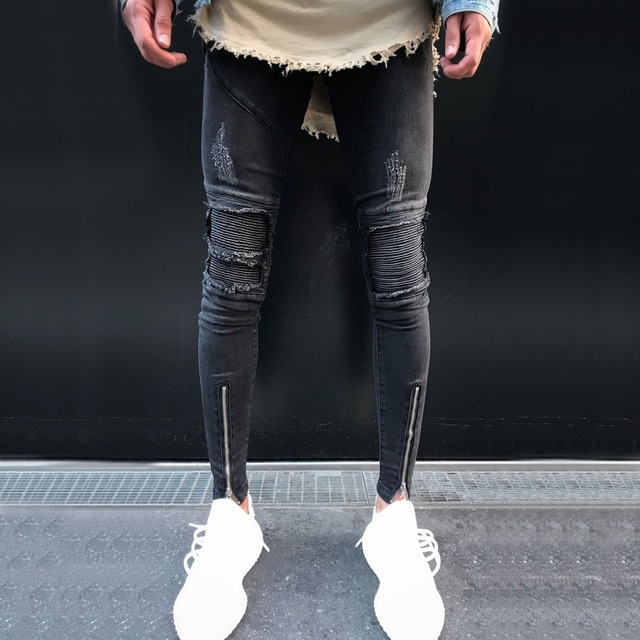jeans: (181, 39, 441, 514)
